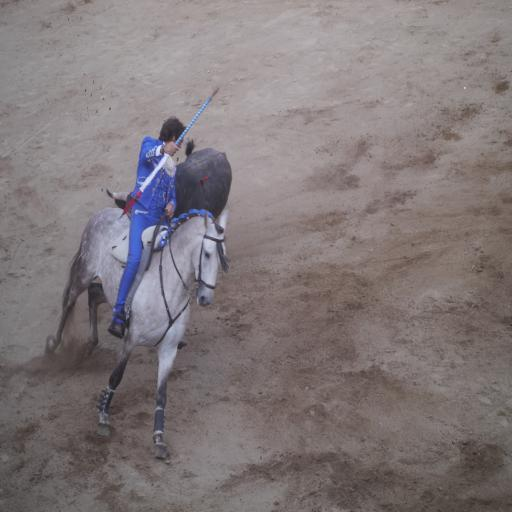horse: (45, 208, 229, 460)
